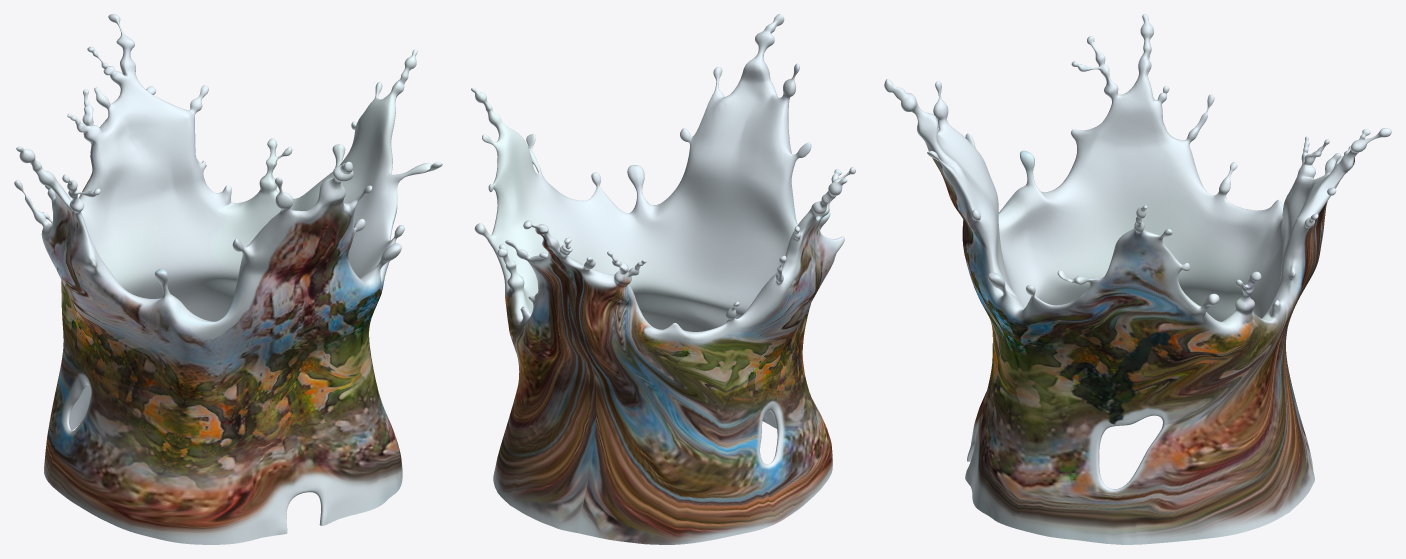
File: TATC_Asset_splashGalleryFinal03.glb
3 views of the same model, side by side, from view 1: azimuth 30°, elevation 25°; view 2: azimuth 150°, elevation 25°; view 3: azimuth 270°, elevation 25° (orthographic). The views are drawn at different scales.
Parts seen in each view (by area): view 1: splashArchitecture1; view 2: splashArchitecture1; view 3: splashArchitecture1.
Boxes of the visible parts, <box> form: splashArchitecture1: <box>14,14,442,544</box>; splashArchitecture1: <box>471,14,855,544</box>; splashArchitecture1: <box>884,14,1391,544</box>.
Size of the model in its own units: 4.2 by 3.97 by 4.65.
Materials: 1 (1 with a texture image).
